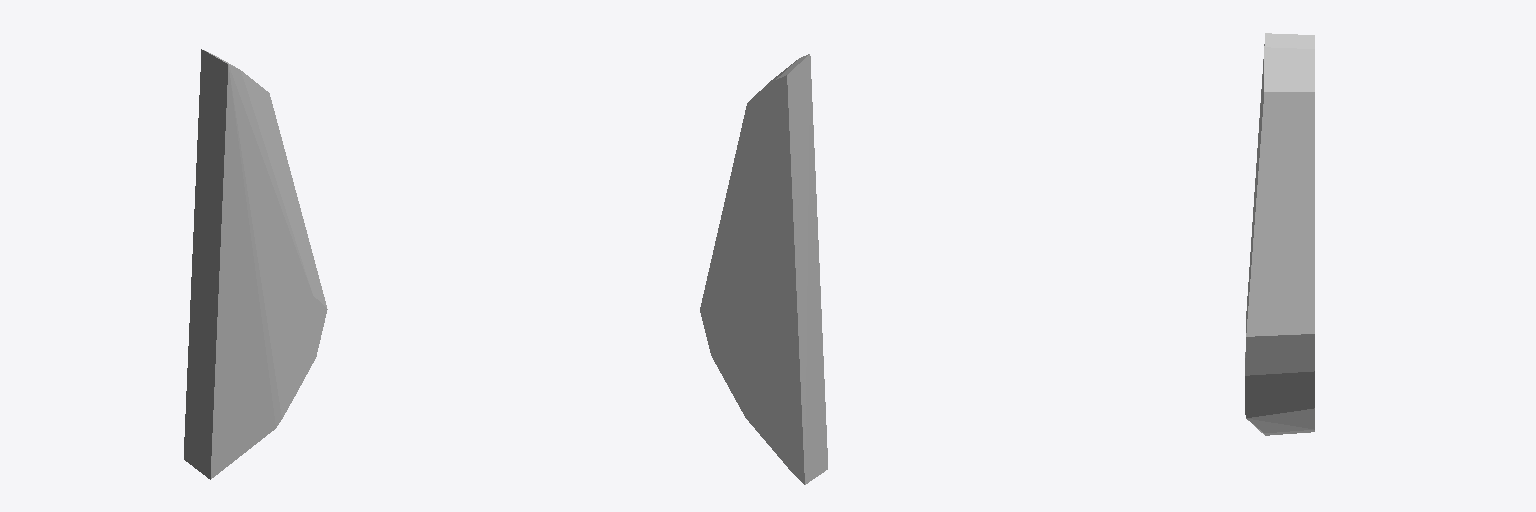
Rendered from plastic_cup_collision_20.obj.
3 renders of one model, left to right at view 1: azimuth 30°, elevation 25°; view 2: azimuth 150°, elevation 25°; view 3: azimuth 270°, elevation 25°, orthographic.
Bounding box in the file's own units: 0.0126 × 0.0453 × 0.0071.